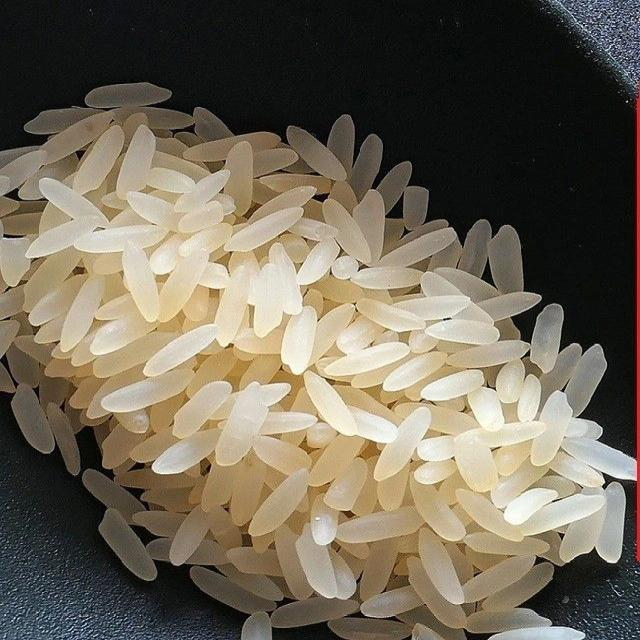rice: (0, 83, 635, 639), (99, 508, 156, 580)
